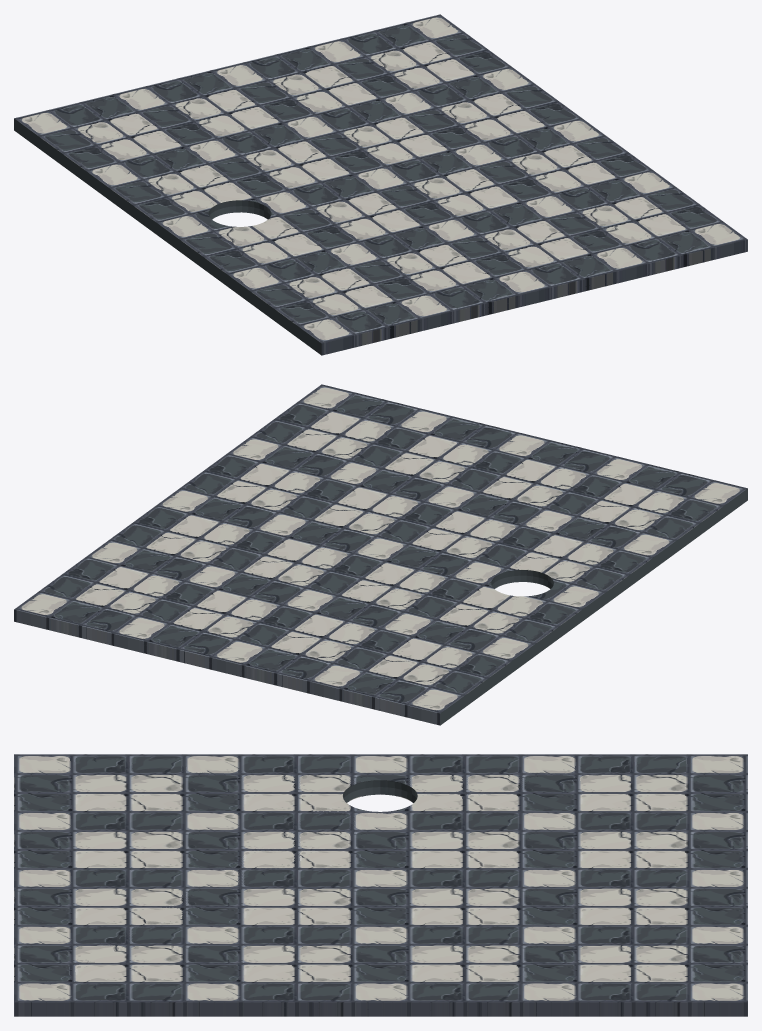
Rendered from Hub_Floor.fbx.
3 views of the same model, one above another, from view 1: azimuth 30°, elevation 25°; view 2: azimuth 150°, elevation 25°; view 3: azimuth 270°, elevation 25° (orthographic). The views are drawn at different scales.
Parts seen in each view (by area): view 1: Plane; view 2: Plane; view 3: Plane.
Part boxes in pixels (bbox=[...]): Plane: bbox=[14, 14, 747, 355]; Plane: bbox=[14, 384, 747, 725]; Plane: bbox=[14, 754, 747, 1016].
Bounding box in the file's own units: 3243 × 87.8 × 4054.
Materials: 1 (1 with a texture image).
